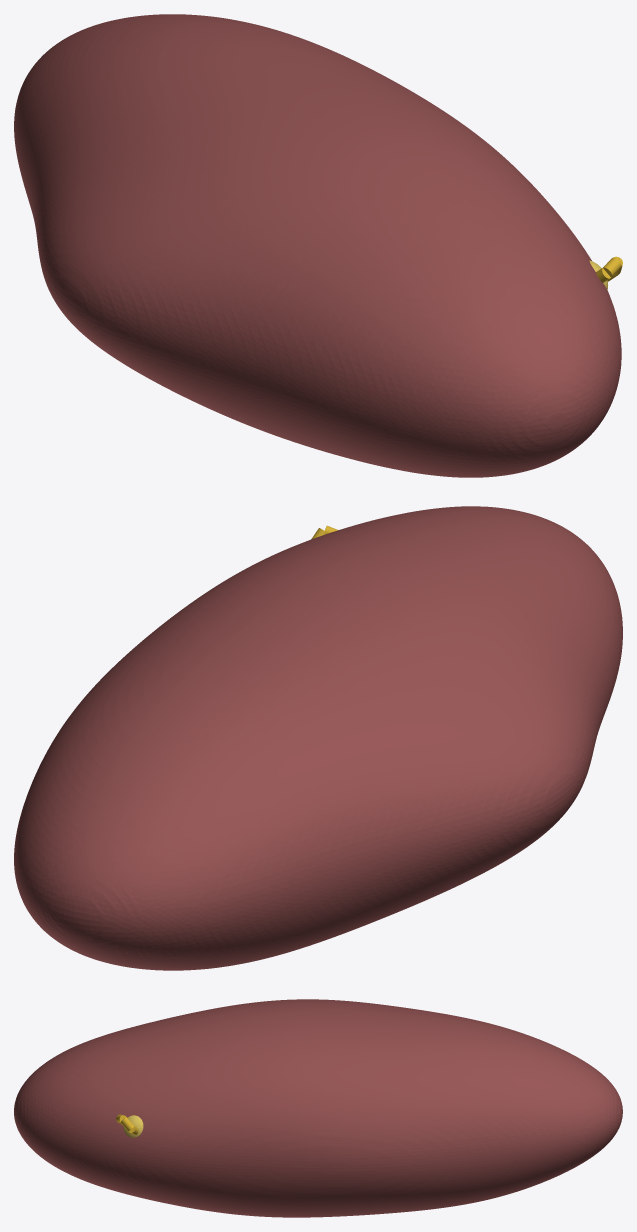
File: combined_anatomical_kidney.glb
The picture shows the model from 3 angles, top to bottom: view 1: azimuth 30°, elevation 25°; view 2: azimuth 150°, elevation 25°; view 3: azimuth 270°, elevation 25°; orthographic projection. The views are drawn at different scales.
Visible parts, largest first — view 1: geometry_1; view 2: geometry_1; view 3: geometry_1, geometry_7.
Part boxes in pixels (x1,y1,x2,y2): geometry_1: (14,14,621,477); geometry_1: (14,506,622,970); geometry_1: (14,999,622,1217); geometry_7: (116,1114,143,1137).
Size of the model in its own units: 45.62 by 28.88 by 88.79.
